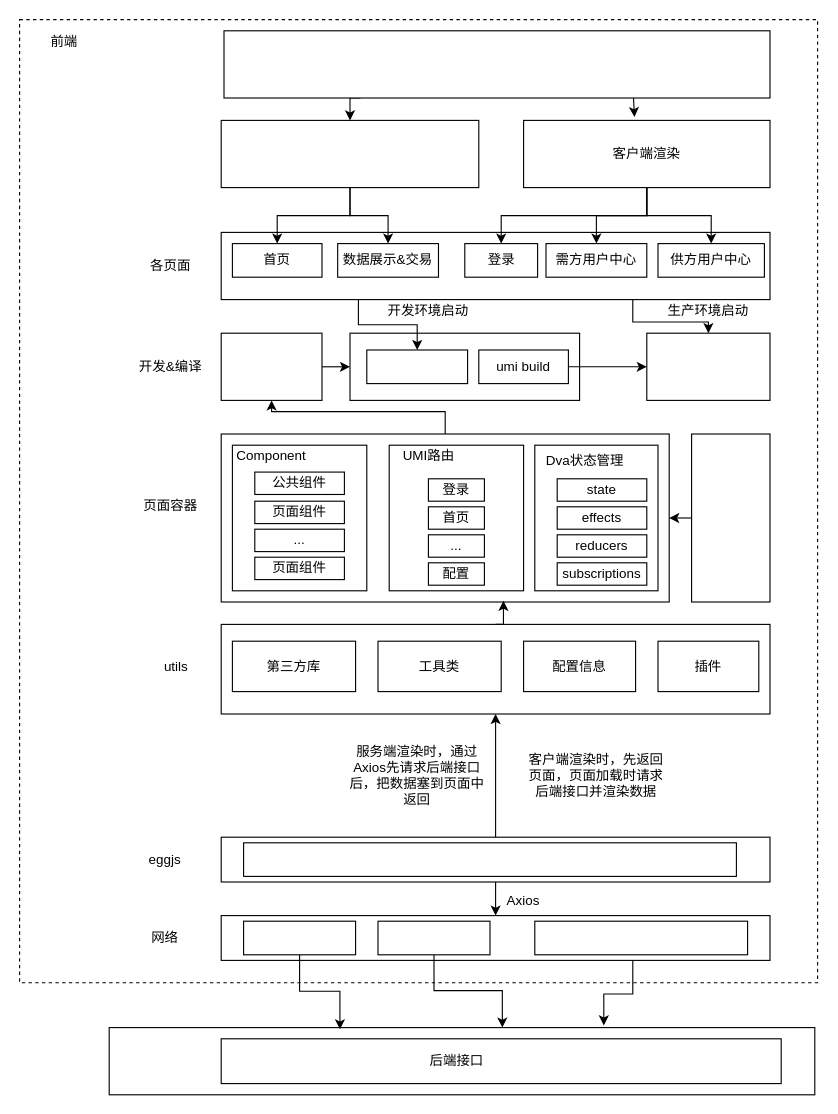
Some shapes in this 838 by 1114 pixel diagram are drawn without their labels. Each missing label, with the centre of its shape:
"antd" belongs at pixel 730 517.
"app.js" belongs at pixel 271 366.
"egg-bin dev" belongs at pixel 417 366.
"egg-scripts start" belongs at pixel 708 366.
"GET请求" belongs at pixel 433 937.
"node层处理" belongs at pixel 489 859.
"POST请求" belongs at pixel 299 937.
"其他请求(PUT,PATCH,DELETE等)" belongs at pixel 641 937.
"服务端渲染" belongs at pixel 349 153.
"浏览器" belongs at pixel 496 64.
